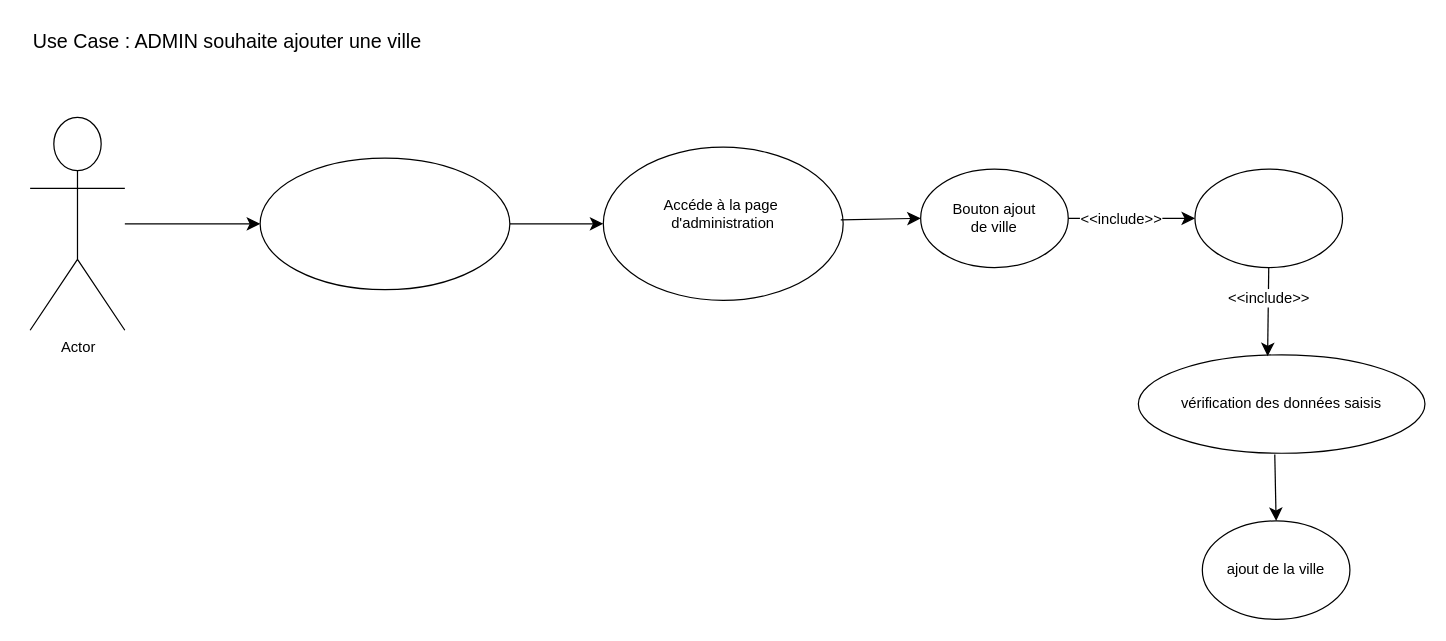
This 1446x641 diagram has some shape labels left out. The shapes that lost their labels are listed below. From the top down, each one's centre as x and y in pixels, then its label:
(384,223): Connection sur le site
(1268,218): Entrer les données
